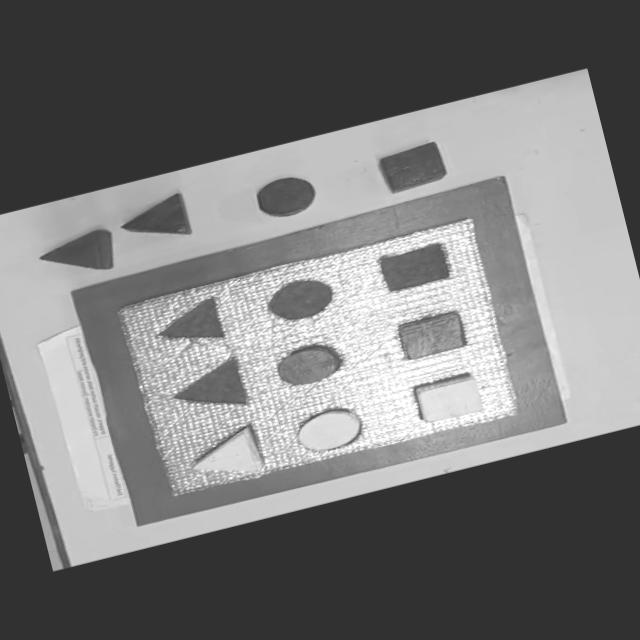bcircle: (252, 170, 321, 222)
bcube: (376, 139, 449, 195)
btriangle: (116, 192, 194, 250)
mtcircle: (263, 272, 340, 328)
mtcube: (375, 240, 455, 295)
mttriangle: (166, 354, 252, 422), (151, 296, 228, 354)
rcube: (396, 308, 470, 362)
rtriangle: (36, 226, 120, 284), (273, 340, 343, 391)
wb: (117, 216, 527, 503)
ycircle: (291, 402, 367, 458)
ycube: (412, 370, 486, 428)
ytriangle: (184, 424, 264, 488)
